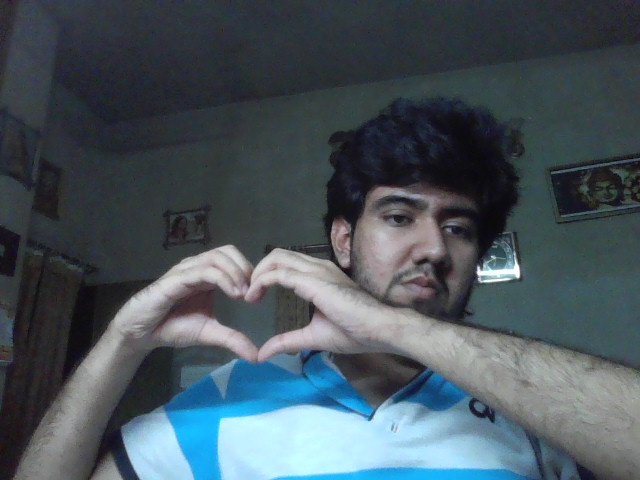Love: (139, 244, 362, 363)
